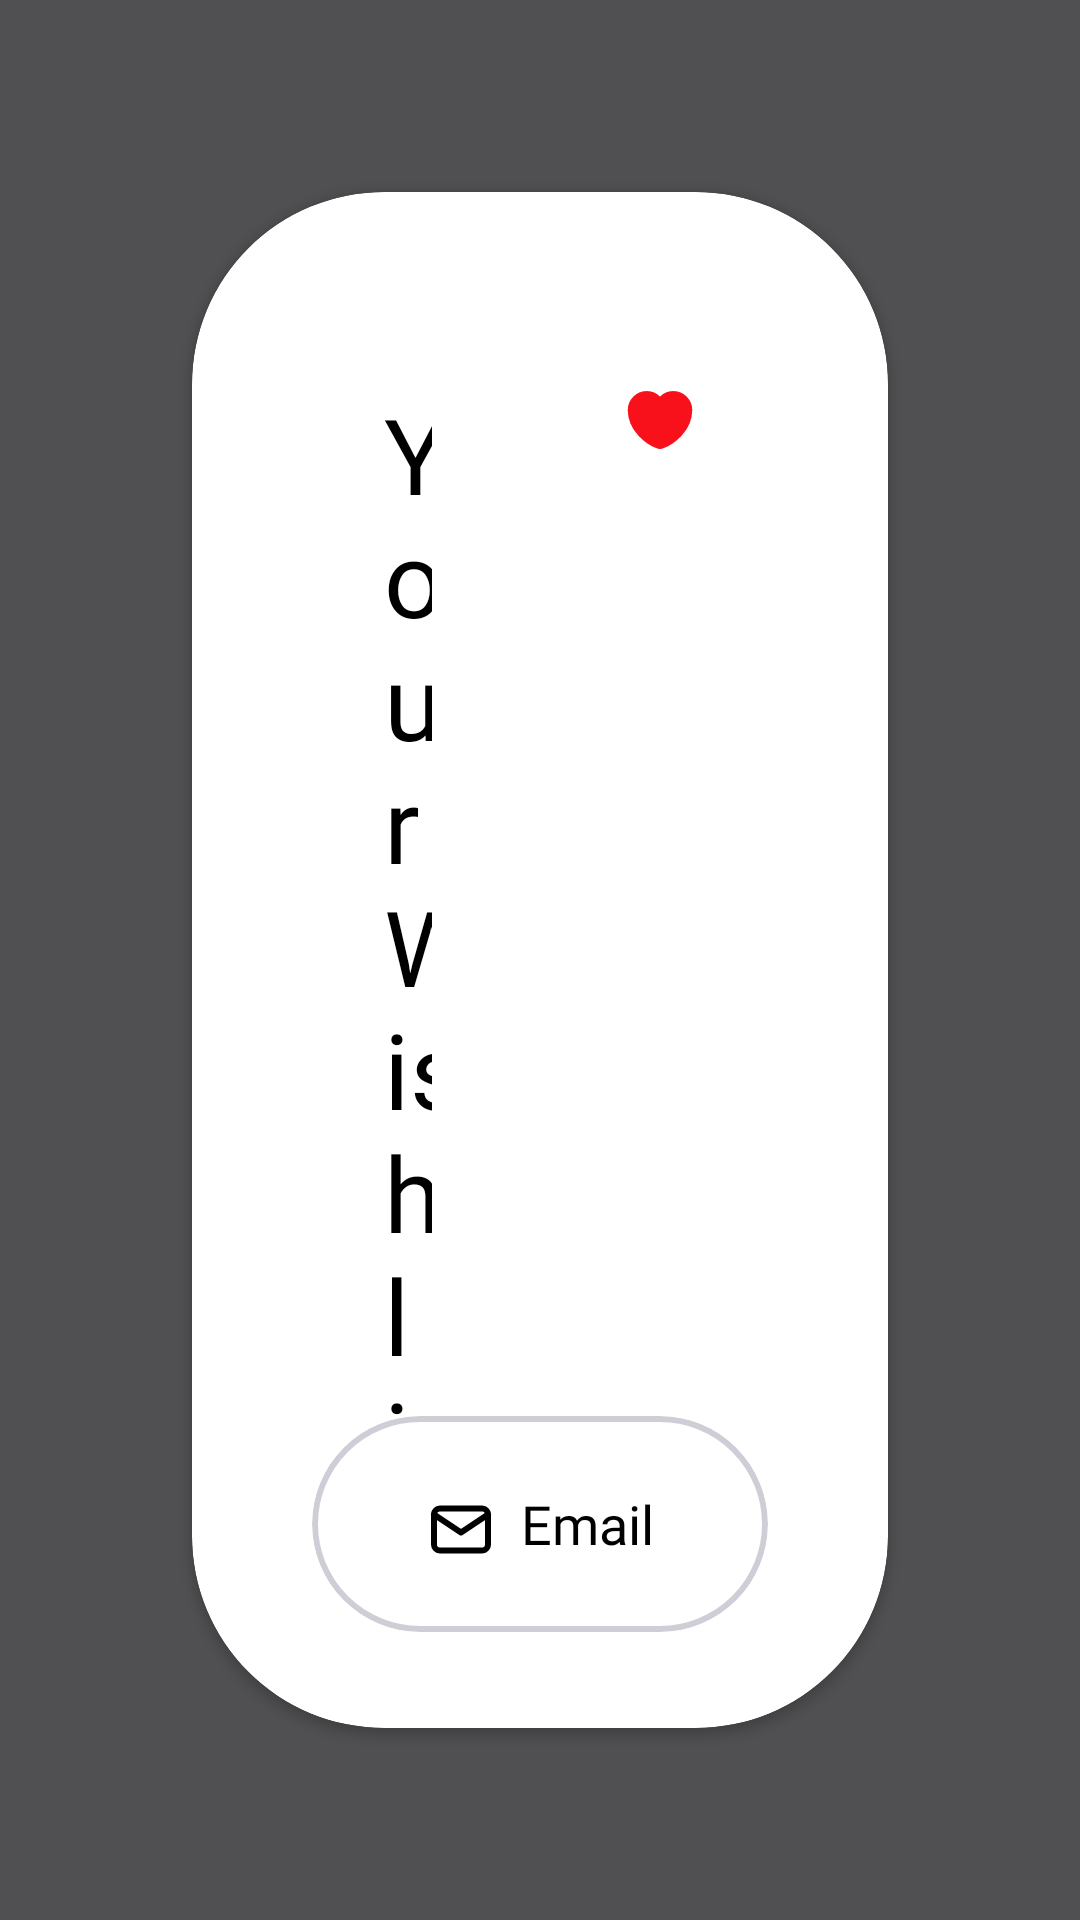

Named icons in this screenshot (1080px x 1920px) and their centers, point (x, y):
heart: point (660, 420)
